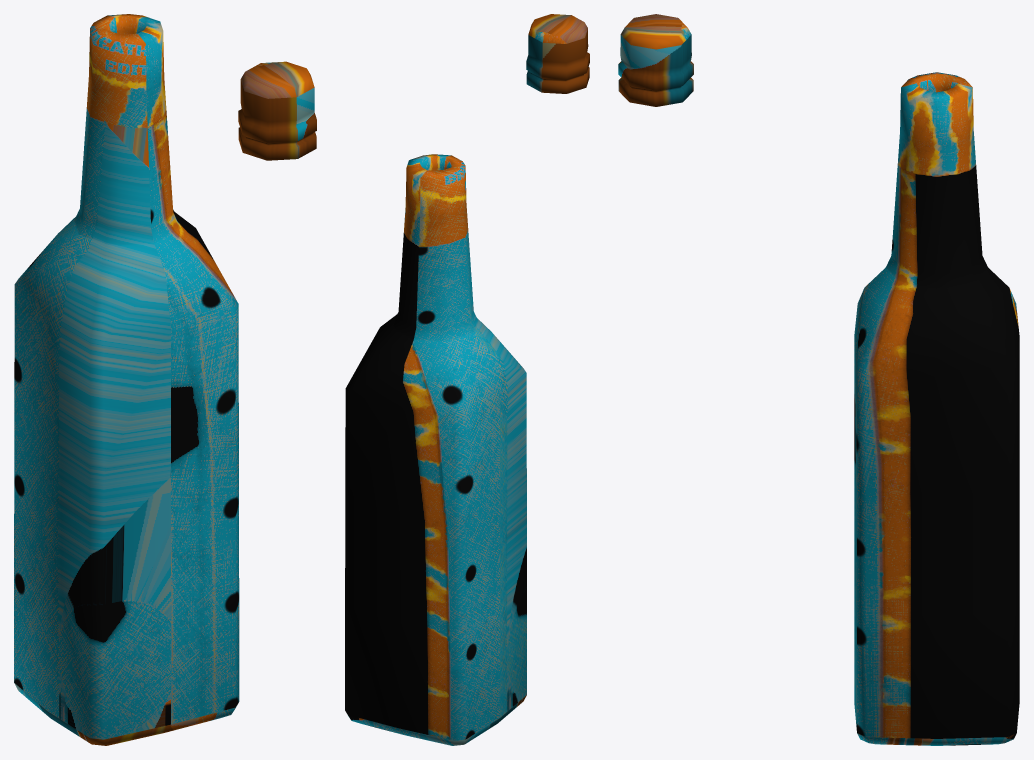
File: SM_WineBottle_Cage.fbx
3 renders of one model, left to right at view 1: azimuth 30°, elevation 25°; view 2: azimuth 150°, elevation 25°; view 3: azimuth 270°, elevation 25°, orthographic. The views are drawn at different scales.
Visible parts, largest first — view 1: WineBottleCage; view 2: WineBottleCage; view 3: WineBottleCage.
Boxes of the visible parts, <box> form: WineBottleCage: <box>14,14,316,745</box>; WineBottleCage: <box>345,14,589,745</box>; WineBottleCage: <box>618,14,1019,745</box>.
Bounding box in the file's own units: 6.22 × 14.69 × 27.84.
